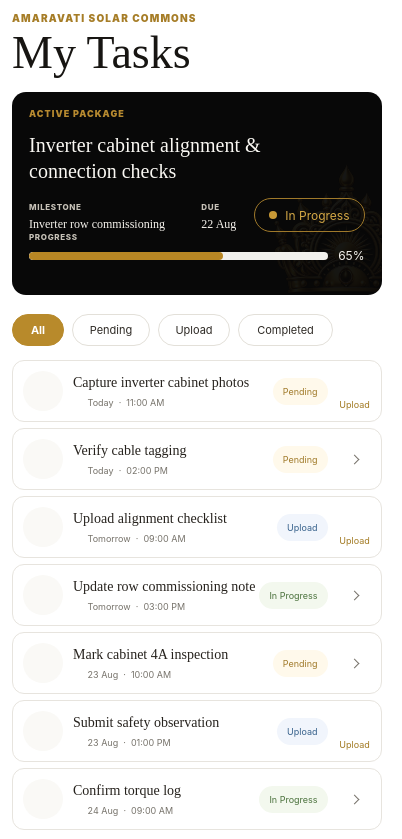
Test: Employee My Tasks mock surface › filters pending, upload, and completed tasks
Click the tab "Pending". click: (111, 330)
box: left=72, top=314, right=150, bottom=346
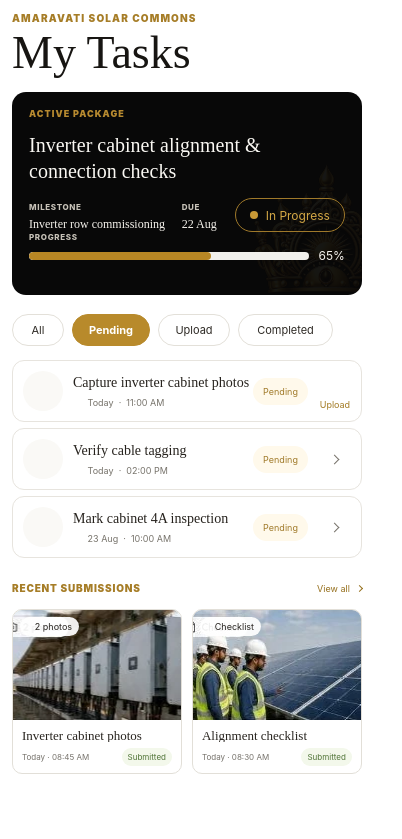
expect the text "Verify cable tagging" is shown: met, box left=73, top=442, right=186, bottom=458
expect the text "Confirm torque log" is gone: met
Click the tab "Upload". click: (194, 330)
box: left=158, top=314, right=230, bottom=346
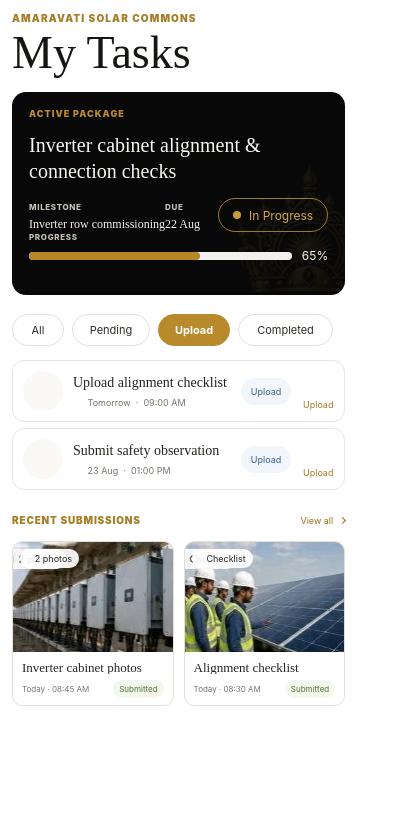
expect the text "Submit safety observation" is shown: met, box left=73, top=442, right=237, bottom=460
expect the text "Verify cable tagging" is gone: met
Click the tab "Completed". click: (286, 330)
box: left=238, top=314, right=333, bottom=346
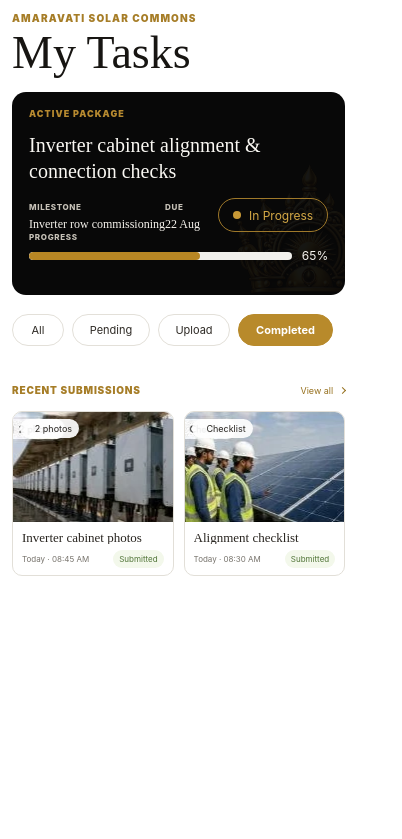
expect the text "Capture inverter cabinet photos" is not shown: met
expect the text "Upload alignment checklist" is gone: met
expect the text "Submit safety observation" is gone: met
